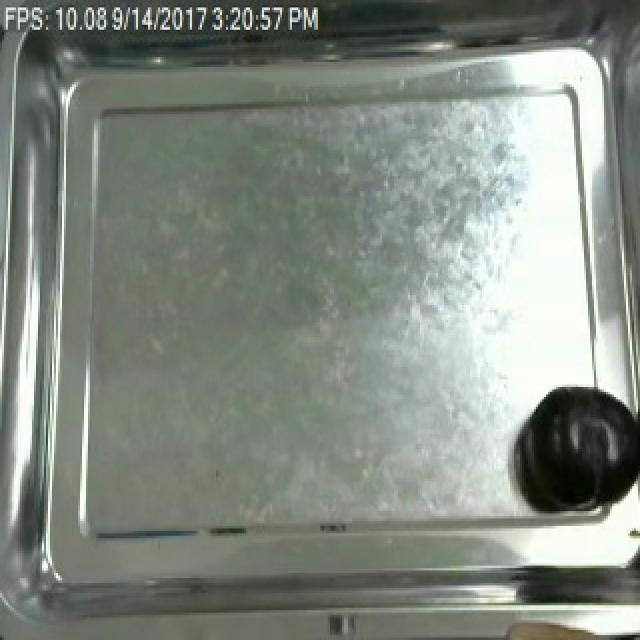Fruit: (516, 380, 636, 516)
